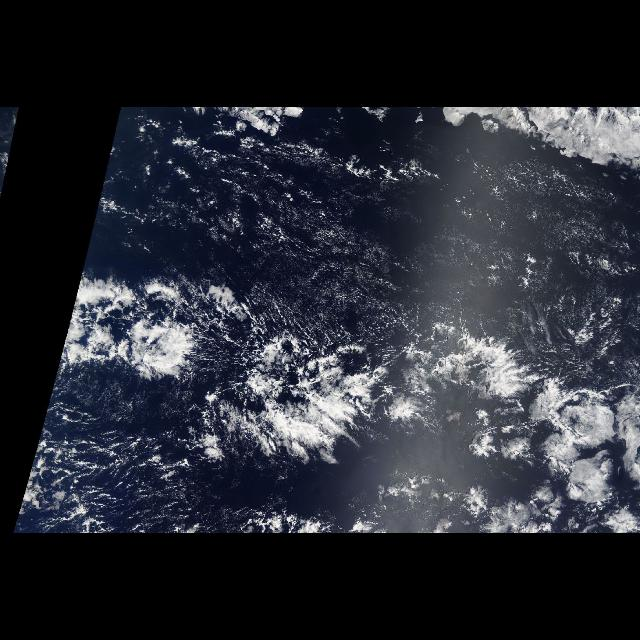Fish: (61, 263, 549, 455)
Flower: (434, 309, 638, 529)
Sugar: (145, 154, 572, 284)
